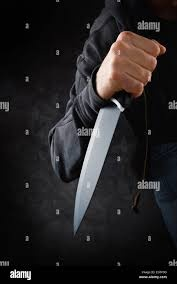knife: (73, 52, 153, 233)
